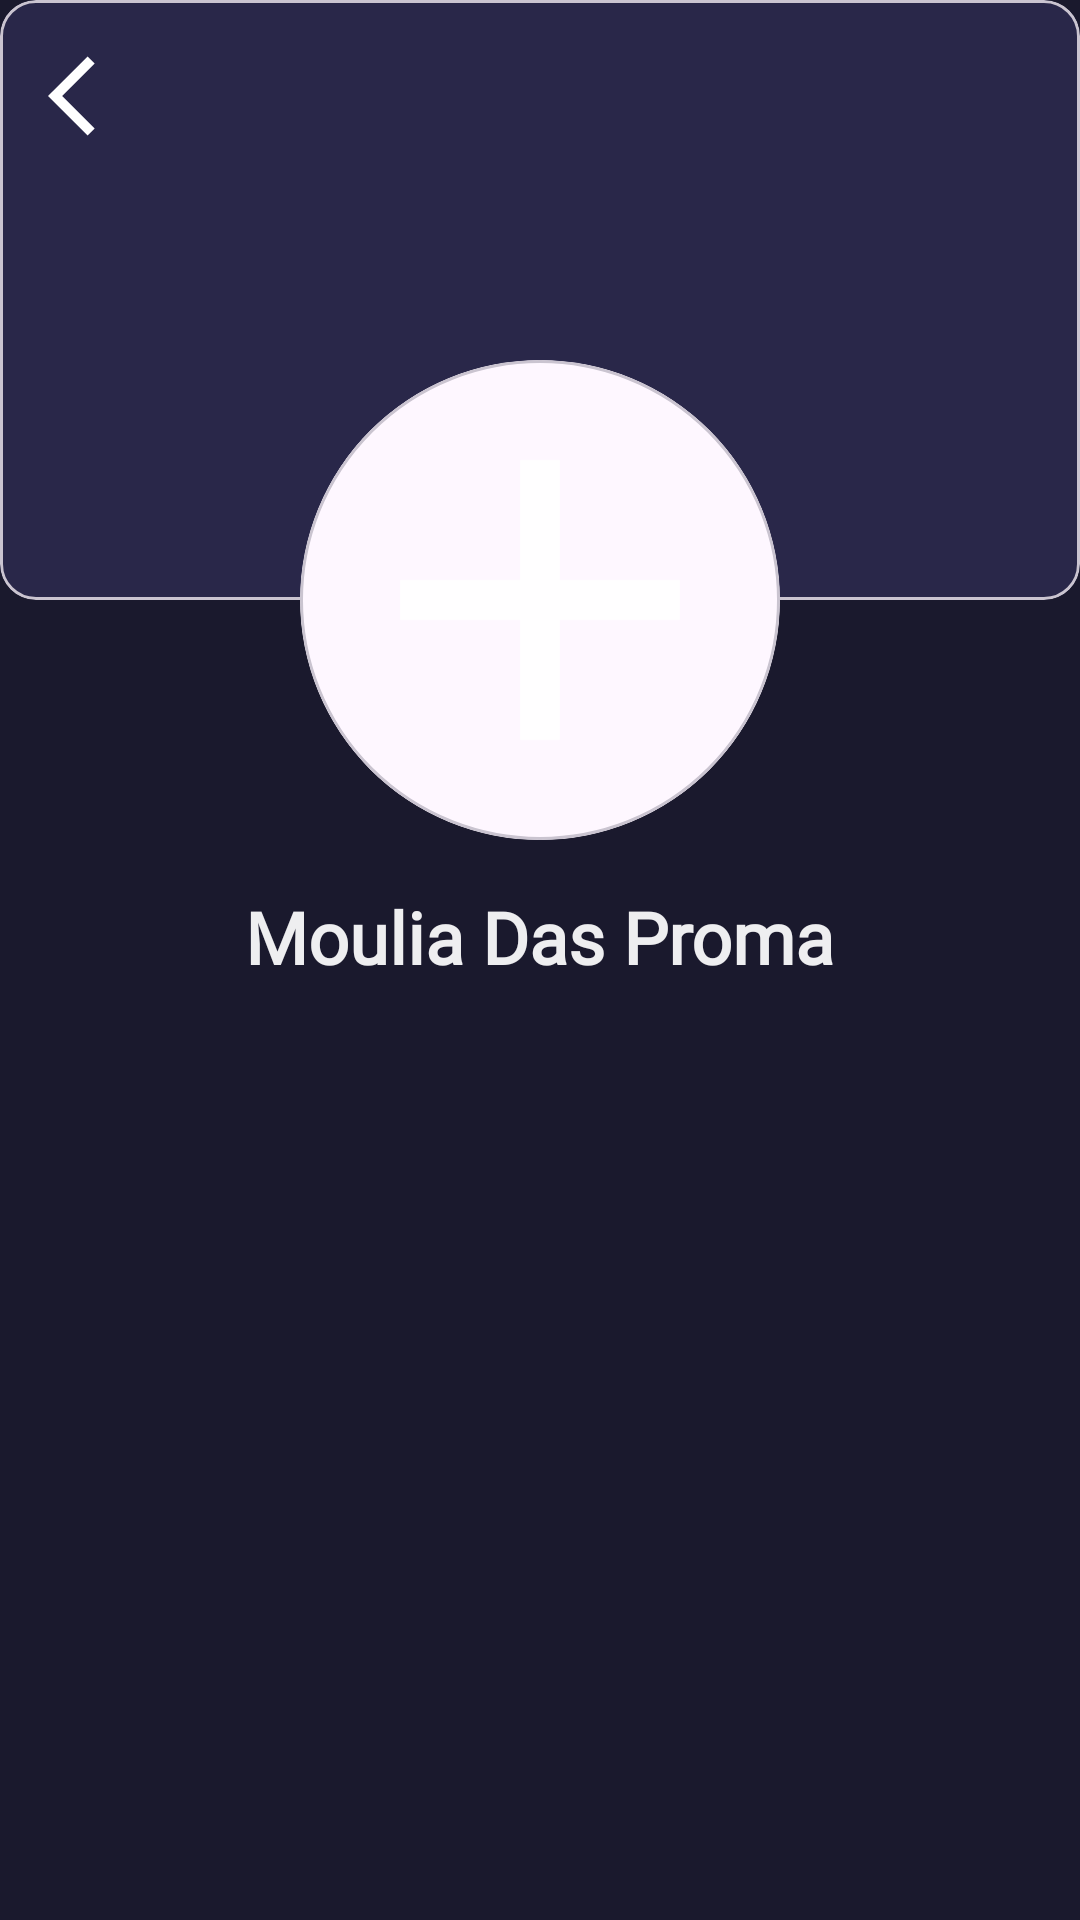

Screen size 1080 × 1920. Icon name, then its center in pixels as [x,y]:
arrow back: [71,96]
